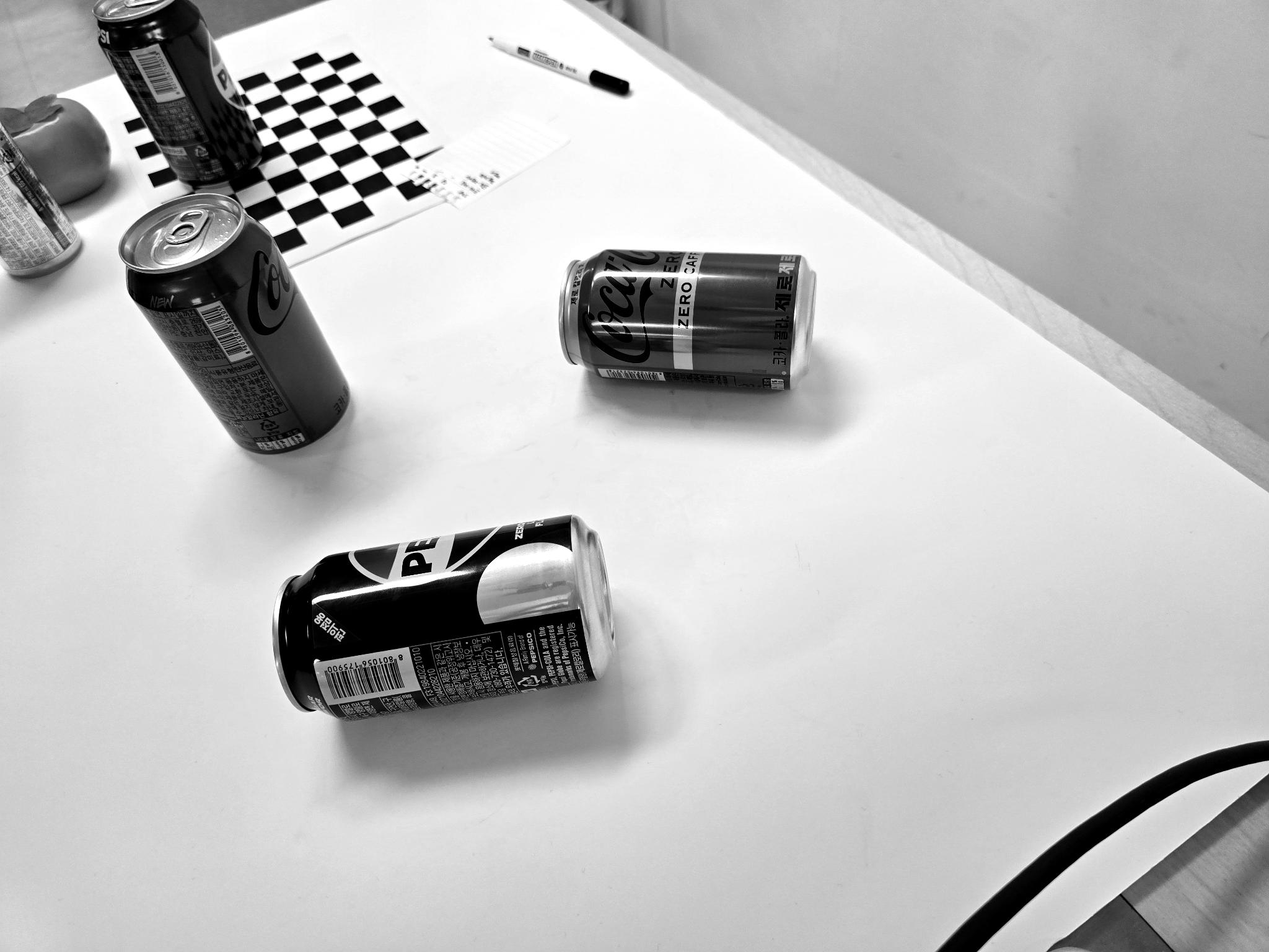can_coke_decaf: (550, 247, 820, 385)
can_coke_zero: (109, 195, 359, 468)
can_pepsi: (92, 0, 274, 192)
can_pepsi_zero: (266, 504, 621, 727)
